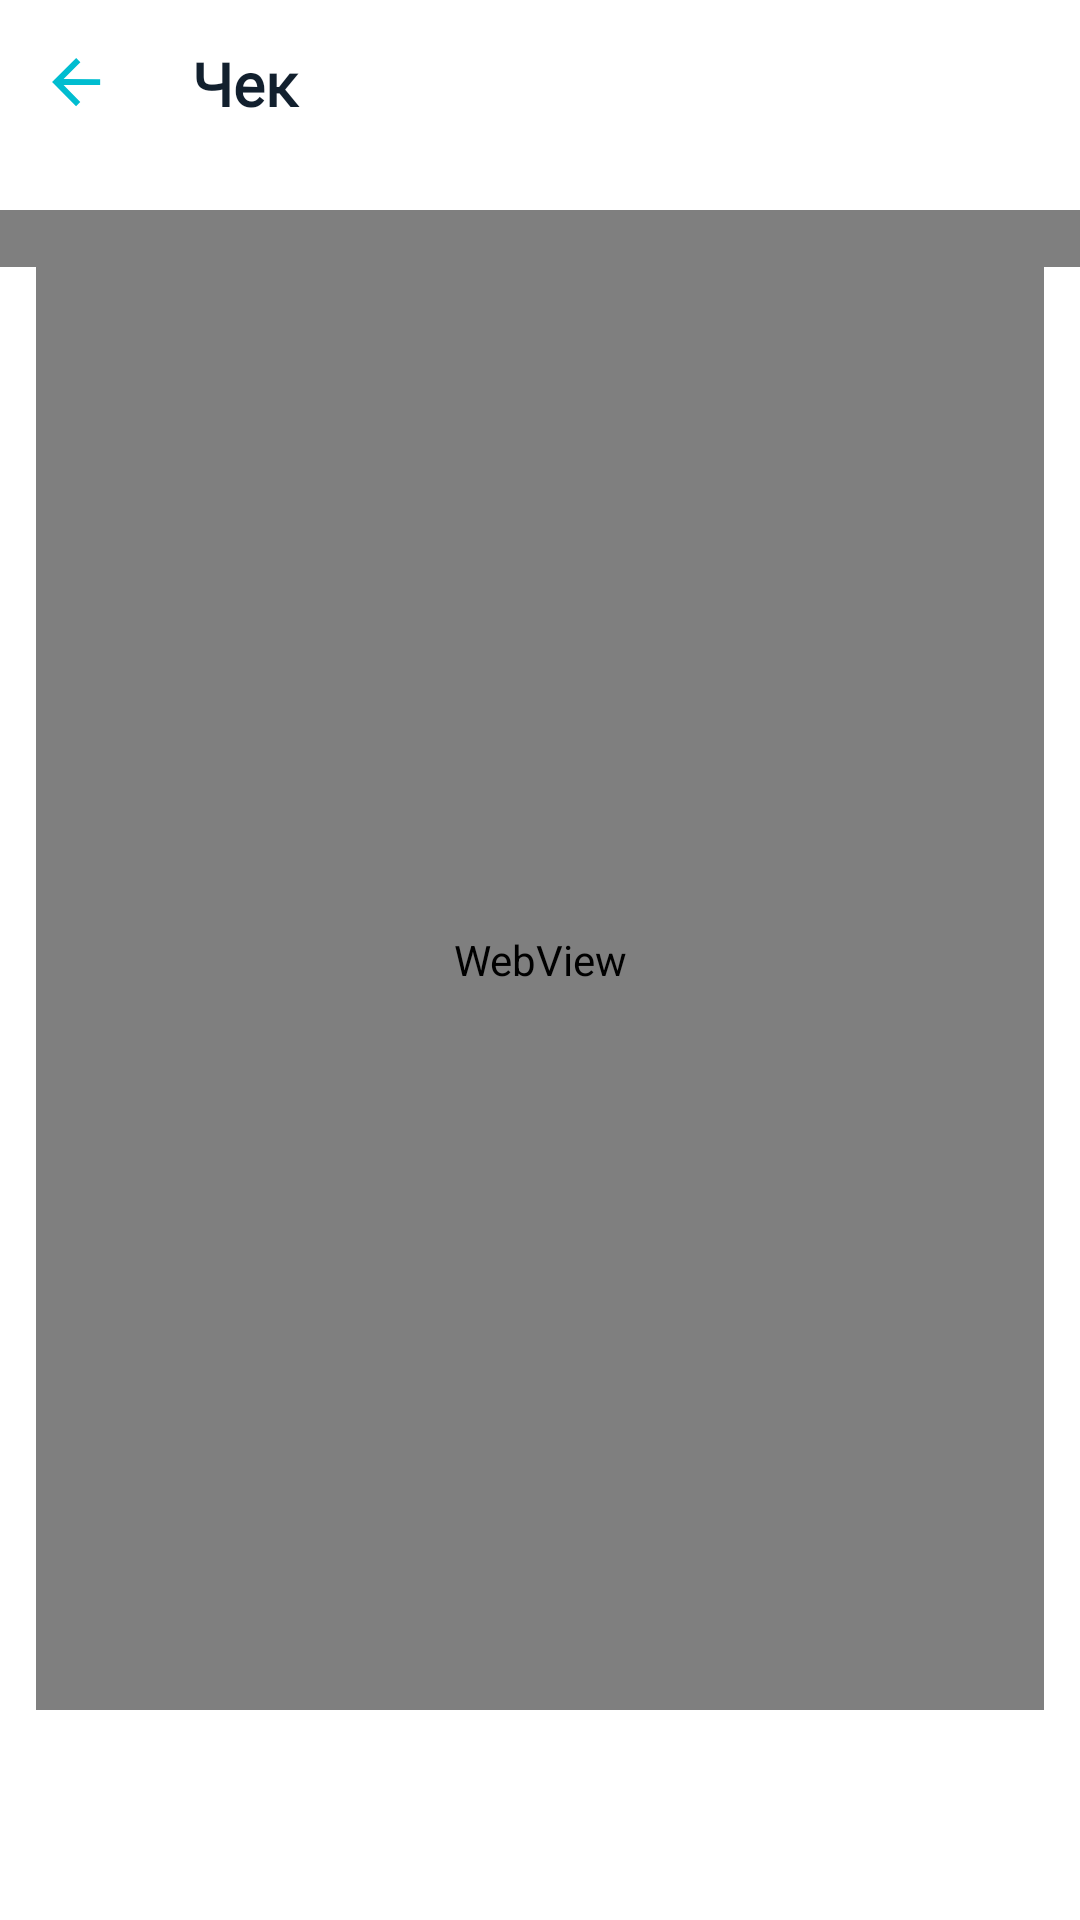

Named icons in this screenshot (1080 x 1920) and their centers, point (x, y):
arrow back: point (76, 82)
